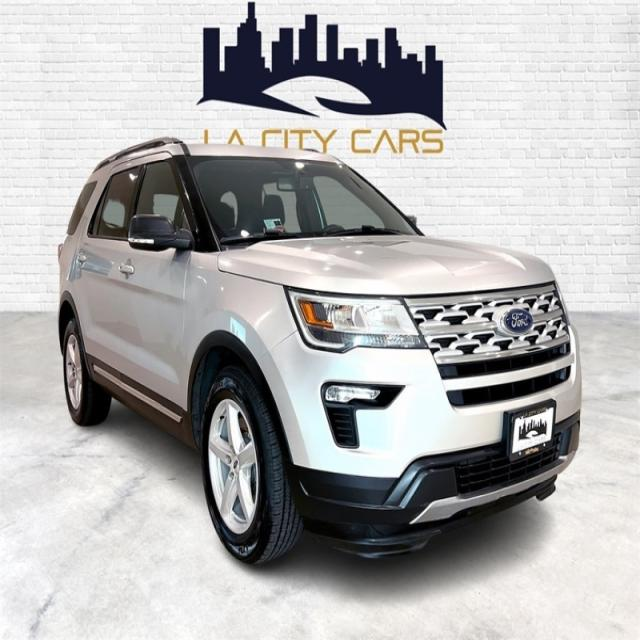SUV: (59, 135, 584, 571)
